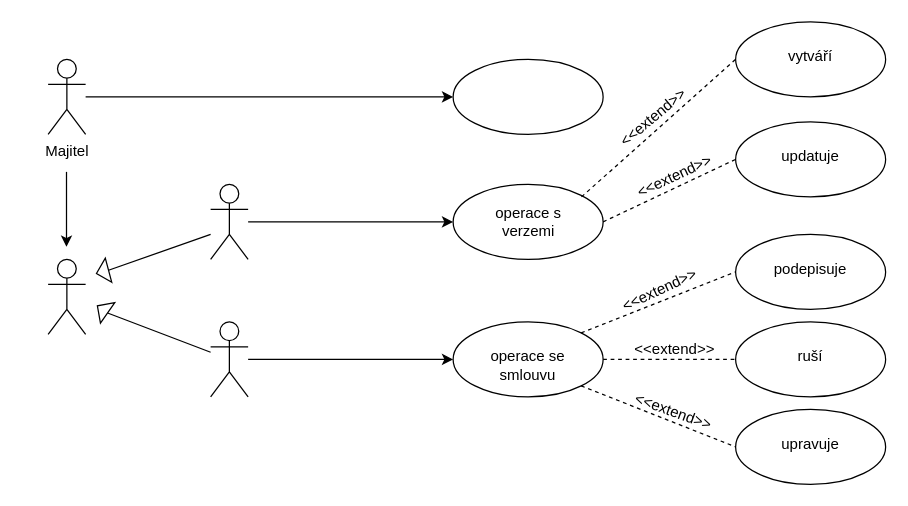
Image size: 908x506. Some labels were removed from this diagram. The centre of each missing label's shape, as x and y in pixels:
Manažer: point (228, 359)
spravuje organizaci: point (527, 96)
Vývojář: point (228, 221)
Zaměstnanec: point (66, 296)
